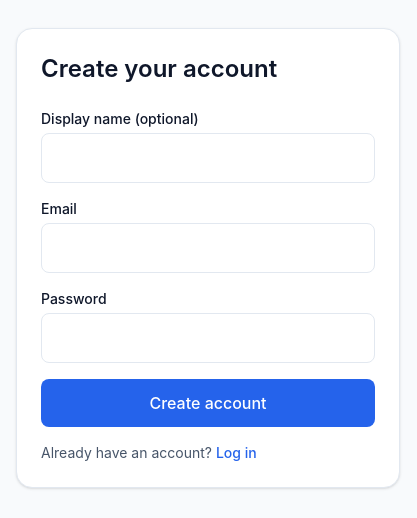
Test: RegisterPage › shows a validation error for a weak password
Type "user@example.com" into the field labelled "Email". click: (208, 248)
box: [41, 223, 375, 273]
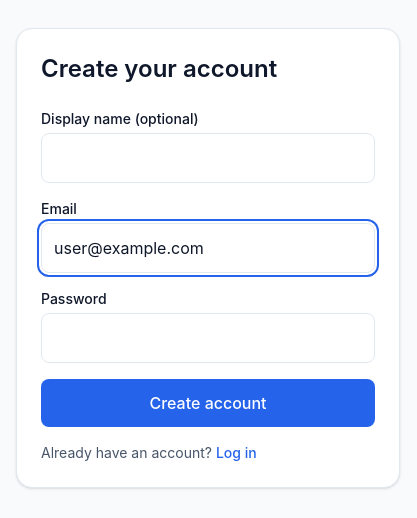
Type "short" into the password field labelled "Password". click: (208, 338)
box: [41, 313, 375, 363]
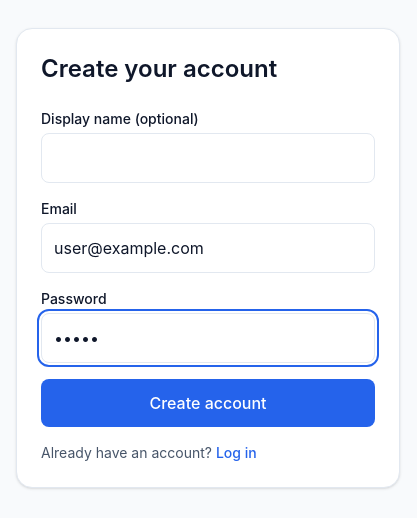
Click the button "Create account". click: (208, 403)
box: [41, 379, 375, 427]
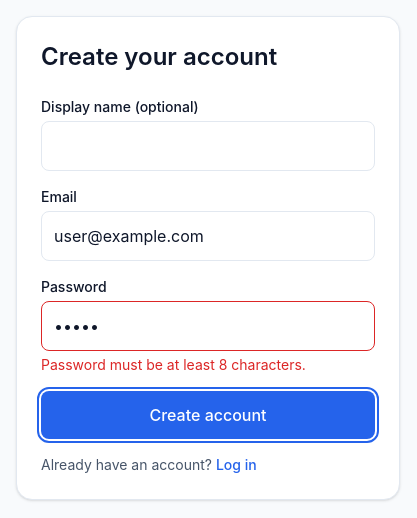
Now the text "Password must be at least 8 characters." is shown, box [41, 356, 306, 373]
